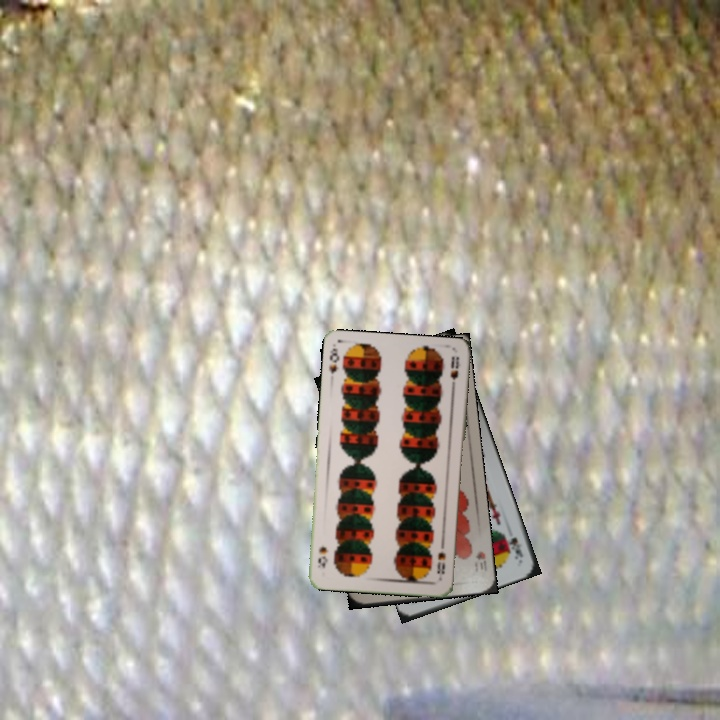H10: (470, 547, 490, 575)
S8: (325, 344, 342, 377), (433, 547, 448, 581)
SK: (505, 533, 526, 562)
